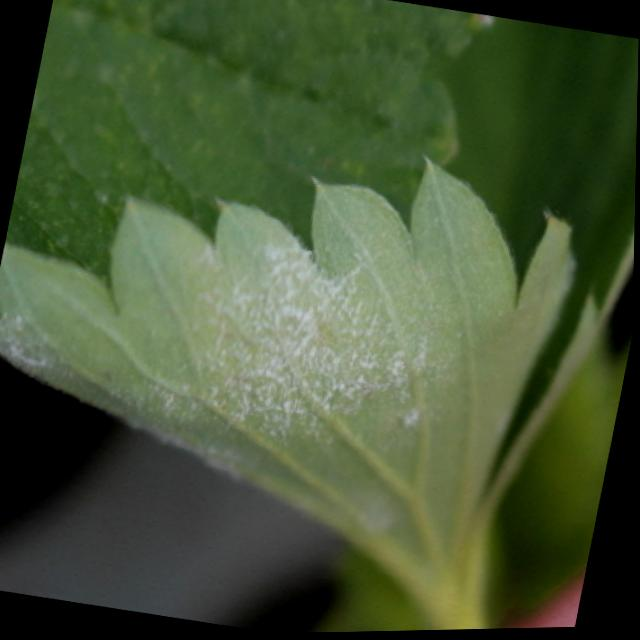Powdery Mildew Leaf: (0, 153, 584, 632)
